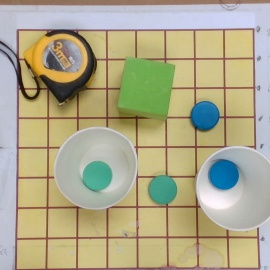blue: (190, 100, 219, 131)
cup_blue: (193, 144, 270, 231)
cup_green: (55, 127, 143, 212)
green: (147, 174, 179, 204)
